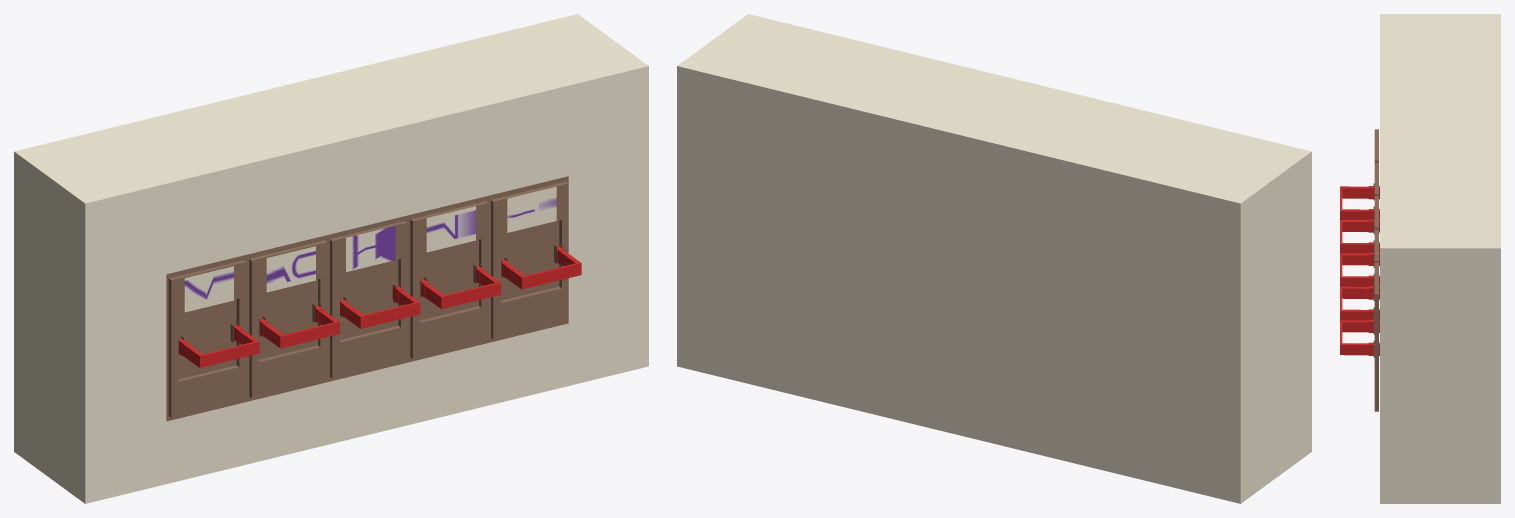
The model's file is SM_SwitchBoard.fbx.
The picture shows the model from 3 angles, left to right: view 1: azimuth 30°, elevation 25°; view 2: azimuth 150°, elevation 25°; view 3: azimuth 270°, elevation 25°; orthographic projection. The views are drawn at different scales.
Visible parts, largest first — view 1: SM_Board, SM_Switch_03, SM_Switch_01, SM_Switch_04, SM_Switch_02, SM_Switch_05; view 2: SM_Board; view 3: SM_Board, SM_Switch_05, SM_Switch_01, SM_Switch_03, SM_Switch_04, SM_Switch_02.
Boxes of the visible parts, box(x1,y1,x2,y2) form: SM_Board: box(14, 14, 648, 503); SM_Switch_03: box(340, 285, 420, 328); SM_Switch_01: box(179, 325, 259, 367); SM_Switch_04: box(421, 265, 501, 309); SM_Switch_02: box(260, 305, 339, 348); SM_Switch_05: box(501, 246, 581, 289); SM_Board: box(677, 14, 1311, 503); SM_Board: box(1373, 14, 1500, 503); SM_Switch_05: box(1340, 319, 1379, 355); SM_Switch_01: box(1340, 186, 1379, 219); SM_Switch_03: box(1340, 252, 1379, 286); SM_Switch_04: box(1340, 286, 1379, 320); SM_Switch_02: box(1340, 219, 1379, 253).
Size of the model in its own units: 119 by 60.46 by 34.48.
